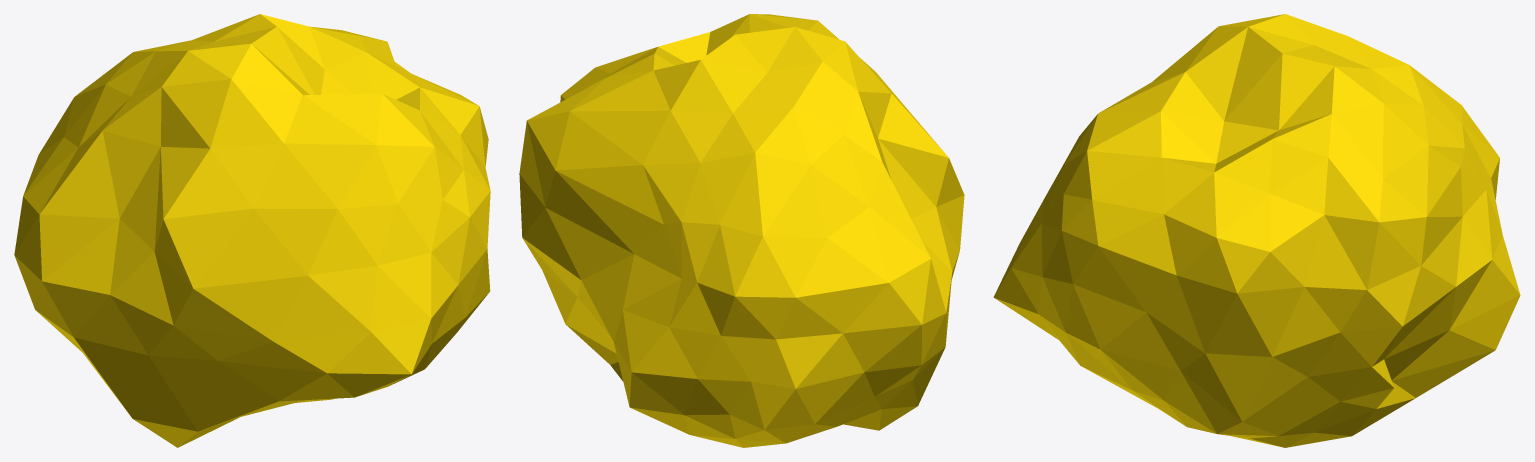
The model's file is asteroid2.FBX.
3 renders of one model, left to right at view 1: azimuth 30°, elevation 25°; view 2: azimuth 150°, elevation 25°; view 3: azimuth 270°, elevation 25°, orthographic. The views are drawn at different scales.
Visible parts, largest first — view 1: GeoSphere001; view 2: GeoSphere001; view 3: GeoSphere001.
Boxes of the visible parts, bbox=[...] form: GeoSphere001: bbox=[14, 14, 490, 447]; GeoSphere001: bbox=[519, 14, 964, 447]; GeoSphere001: bbox=[993, 14, 1520, 447].
Size of the model in its own units: 12.34 by 10.91 by 13.37.
1 material, 1 textured.
